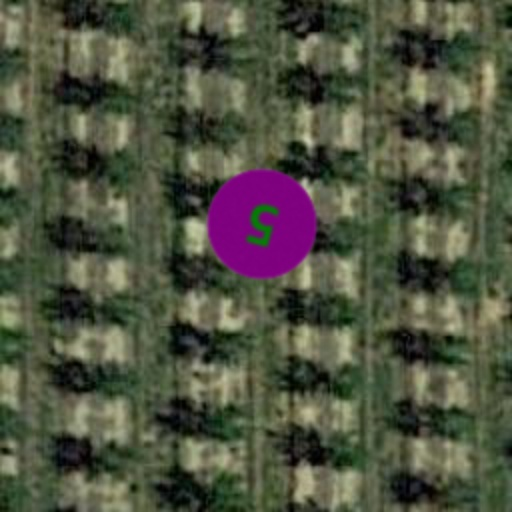circle: (194, 156, 330, 292)
